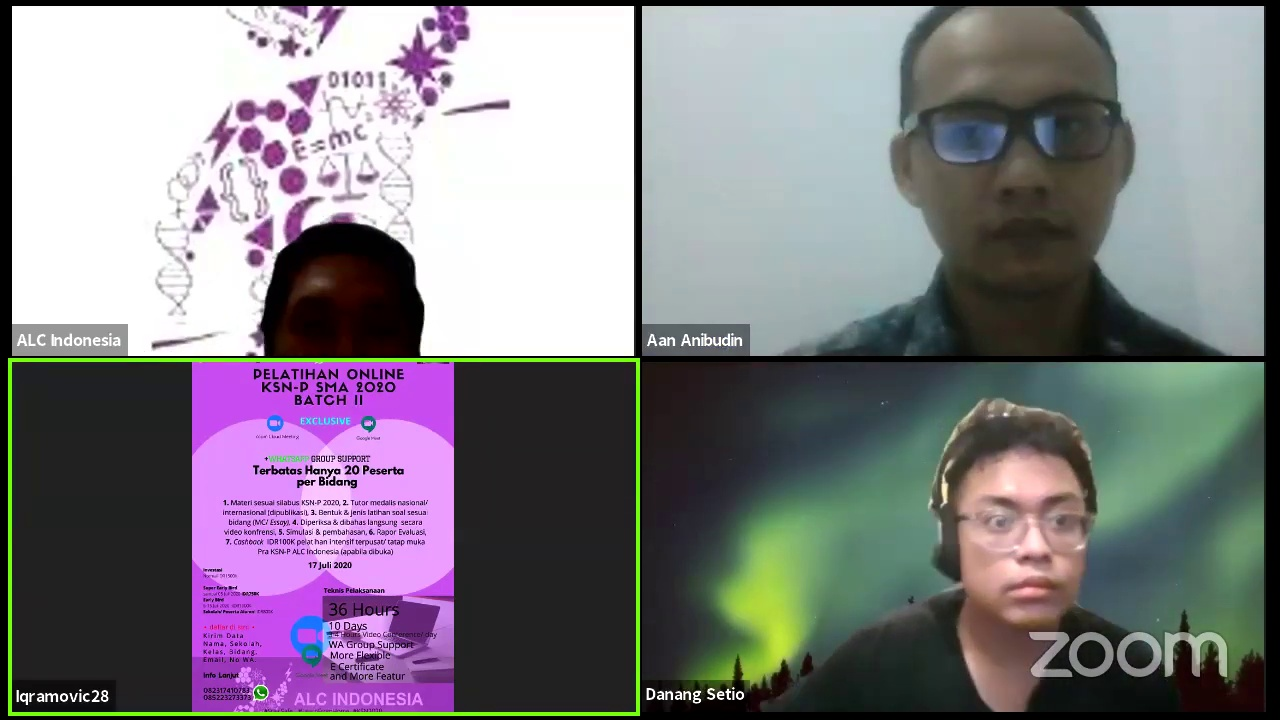Not Distracted: (892, 21, 1142, 292), (926, 423, 1112, 629), (254, 234, 430, 348)
